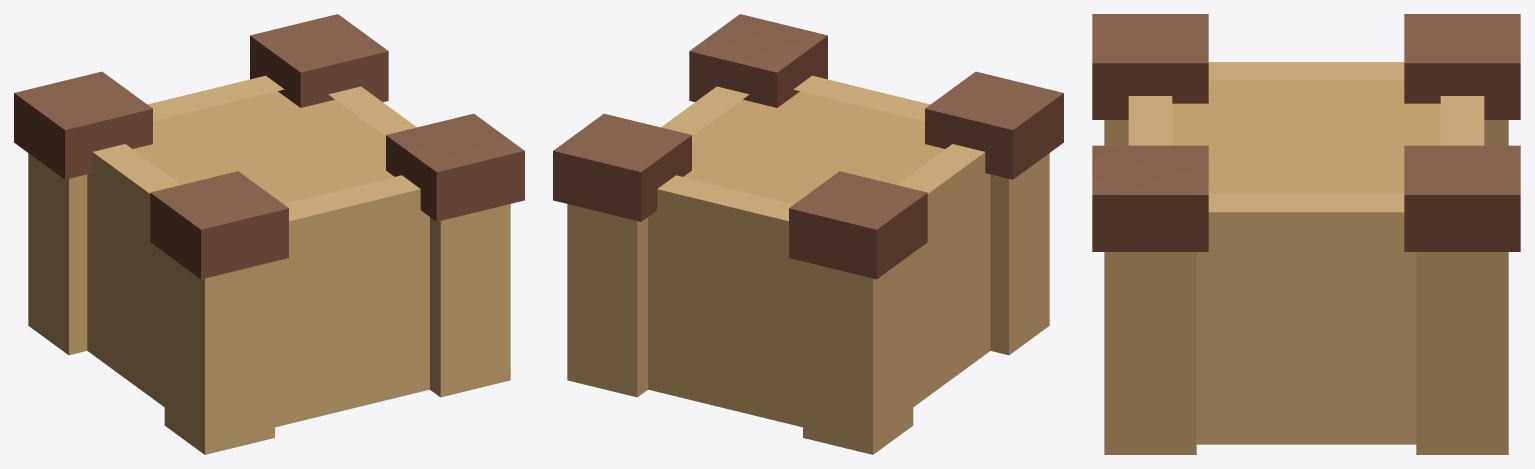
Rendered from ST_Env_Wall_Walkway_Corner_01.fbx.
3 renders of one model, left to right at view 1: azimuth 30°, elevation 25°; view 2: azimuth 150°, elevation 25°; view 3: azimuth 270°, elevation 25°, orthographic. The views are drawn at different scales.
Visible parts, largest first — view 1: ST_Env_Wall_Walkway_Corner_01; view 2: ST_Env_Wall_Walkway_Corner_01; view 3: ST_Env_Wall_Walkway_Corner_01.
Part boxes in pixels (box(x1,y1,x2,y2)): ST_Env_Wall_Walkway_Corner_01: box(14, 14, 524, 454); ST_Env_Wall_Walkway_Corner_01: box(553, 14, 1063, 454); ST_Env_Wall_Walkway_Corner_01: box(1092, 14, 1520, 454).
Bounding box in the file's own units: 6.74 × 4.66 × 6.74.
